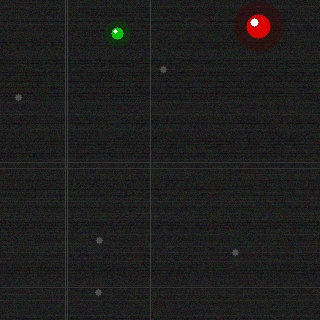green_normal: (109, 25, 125, 41)
red_fault: (244, 12, 272, 40)
